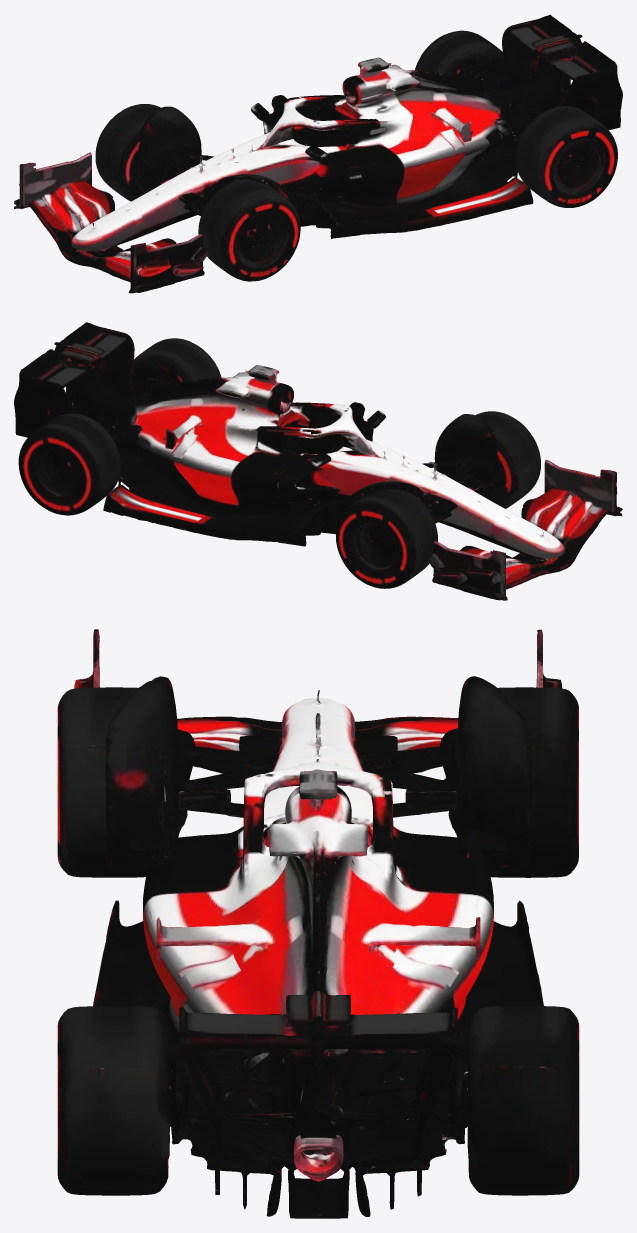
The picture shows the model from 3 angles, top to bottom: view 1: azimuth 30°, elevation 25°; view 2: azimuth 150°, elevation 25°; view 3: azimuth 270°, elevation 25°; orthographic projection. The views are drawn at different scales.
Parts seen in each view (by area): view 1: output; view 2: output; view 3: output.
Boxes of the visible parts, left/top/right/bottom form: output: left=14, top=14, right=622, bottom=293; output: left=14, top=322, right=622, bottom=600; output: left=57, top=629, right=579, bottom=1218.
Bounding box in the file's own units: 4.05 × 1 × 1.73.
1 material, 1 textured.
